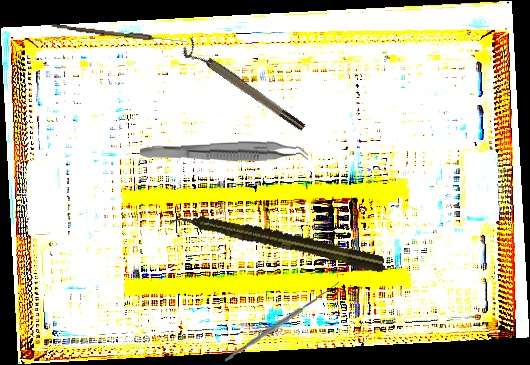Fixation Ring: (179, 37, 308, 139)
Handpiece: (169, 206, 387, 275)
Hook Surgical: (219, 273, 344, 364)
Surgical Spoon: (51, 23, 187, 45)
Tissue Forceps: (139, 139, 309, 168)
